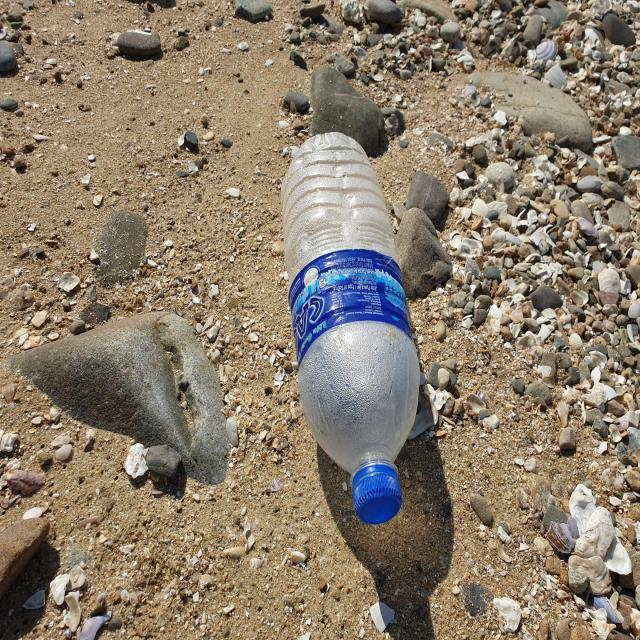plastic: (281, 131, 420, 525)
